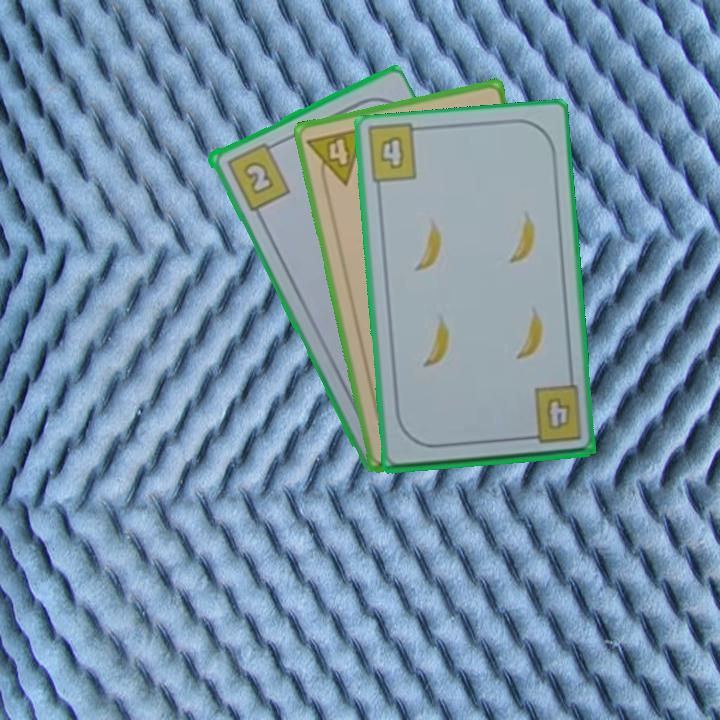2b: (222, 138, 293, 214)
4b: (520, 383, 585, 447), (375, 132, 407, 172)
4p: (303, 124, 368, 192)
